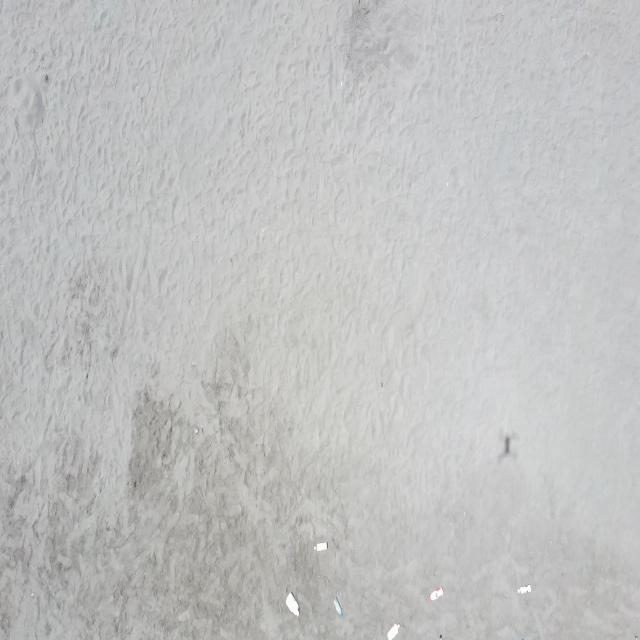Garbage: (286, 592, 298, 615), (387, 624, 399, 639), (333, 595, 342, 615), (430, 588, 442, 600), (313, 542, 327, 551), (516, 584, 531, 592)
